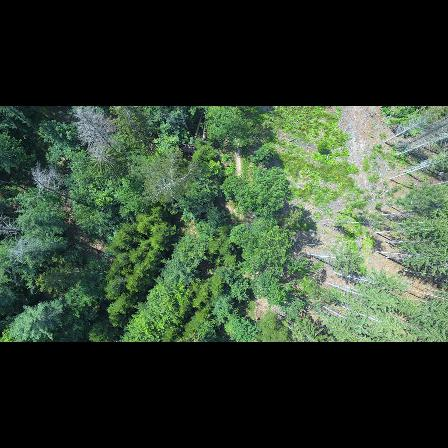Dead: (71, 107, 116, 171), (149, 155, 196, 202), (5, 236, 52, 262), (31, 164, 65, 196)
